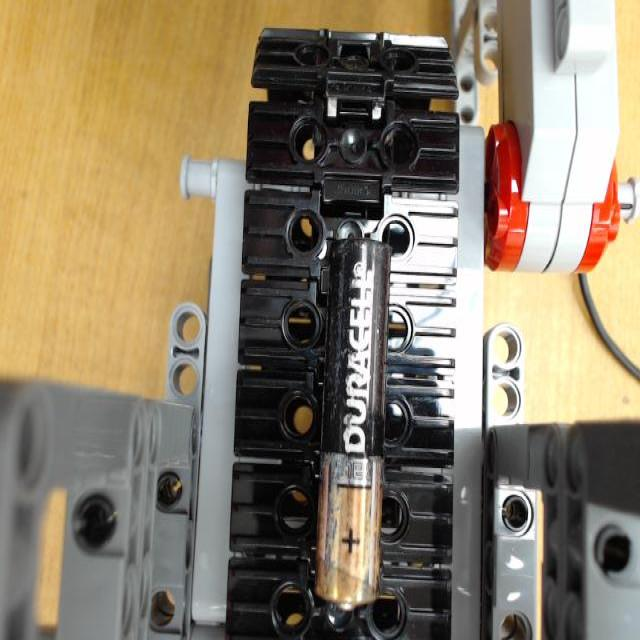AAA: (320, 238, 386, 611)
